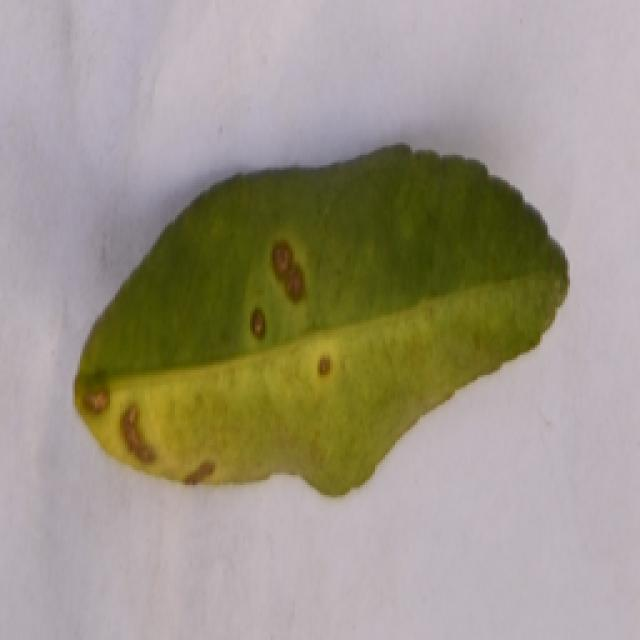canker: (72, 147, 583, 487)
